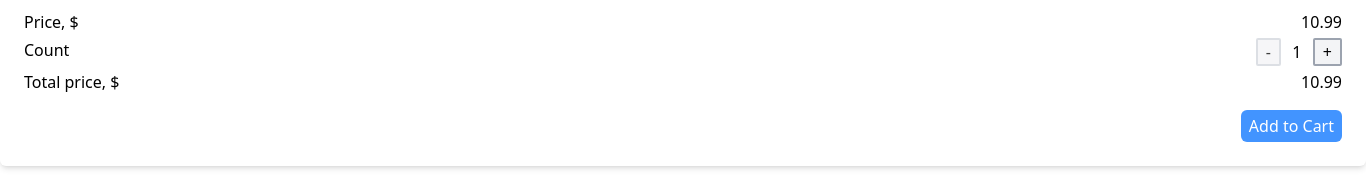
AddToCart component › should increase count when plus button is clicked
Check: the number field holds "1", box [1281,38,1313,66]
Click the button "+": (1327,52) [1313,38,1342,66]
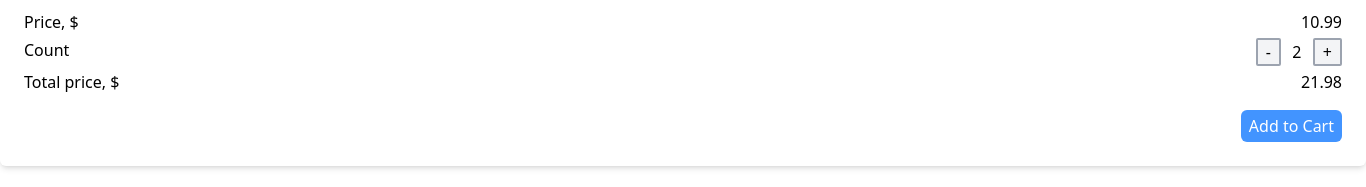
Check: the number field holds "2", box [1281,38,1313,66]
